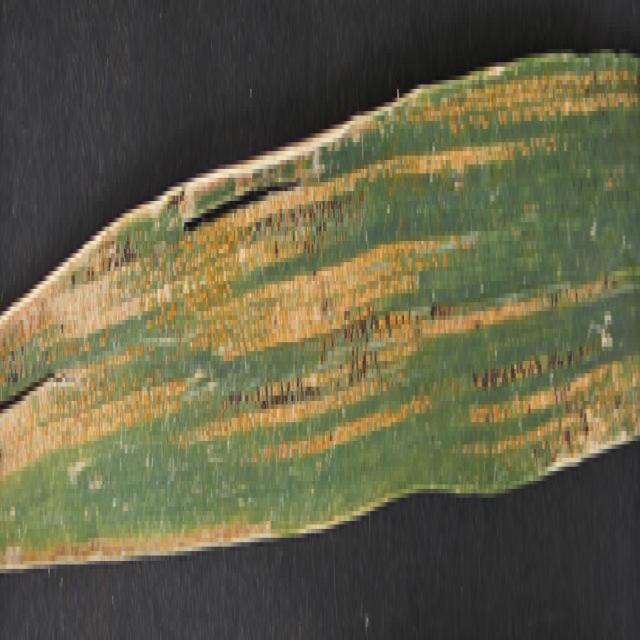leaf rust: (0, 62, 640, 595)
